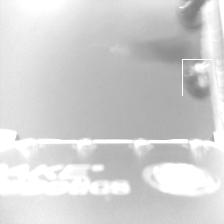Lock: (182, 59, 213, 96)
